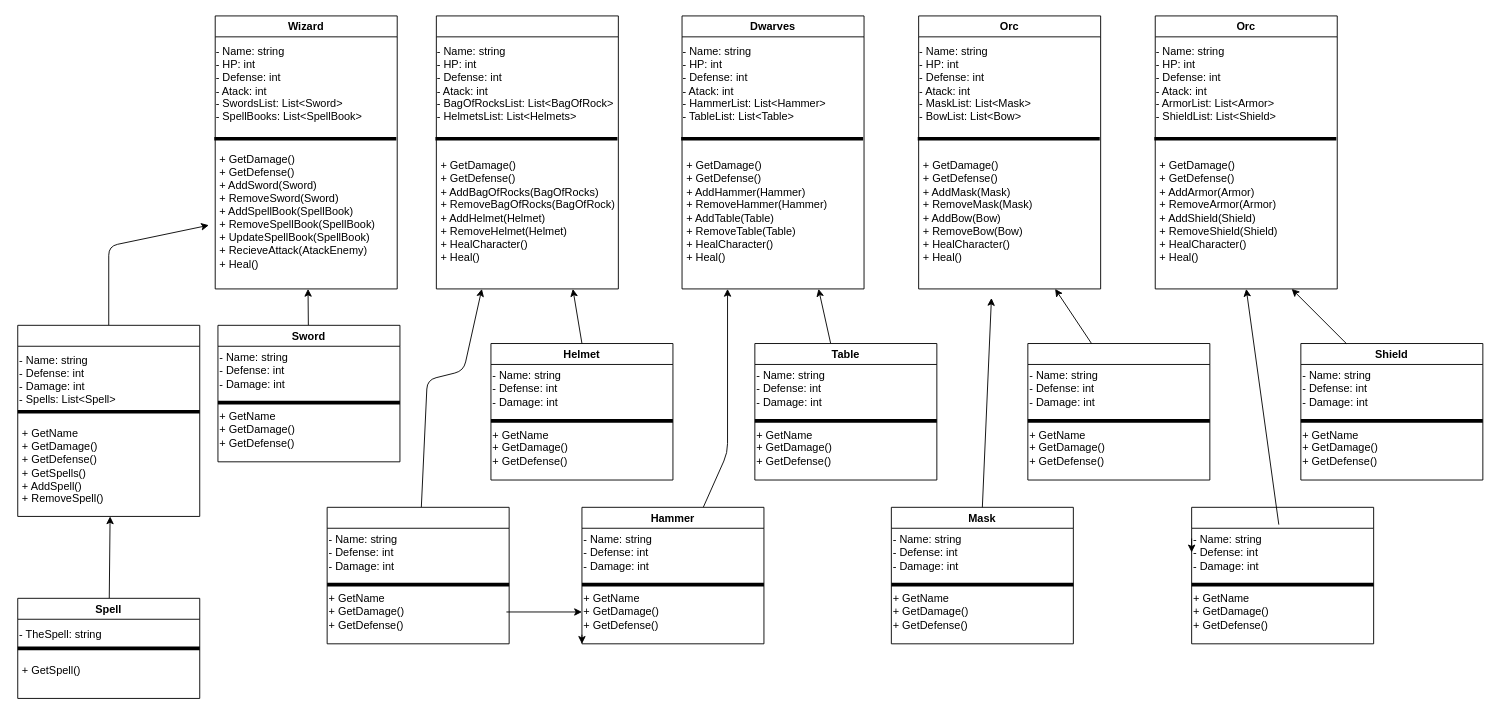
This 1500x714 diagram has some shape labels left out. The shapes that lost their labels are listed below. From the top down, each one's box as (x1, y1, x2, y2) in pixels, then its label:
(435, 15, 618, 289): Elves
(17, 324, 200, 516): SpellBook
(1027, 343, 1210, 480): Bow
(326, 506, 509, 644): BagsOfRocks
(1191, 506, 1374, 644): Armor
